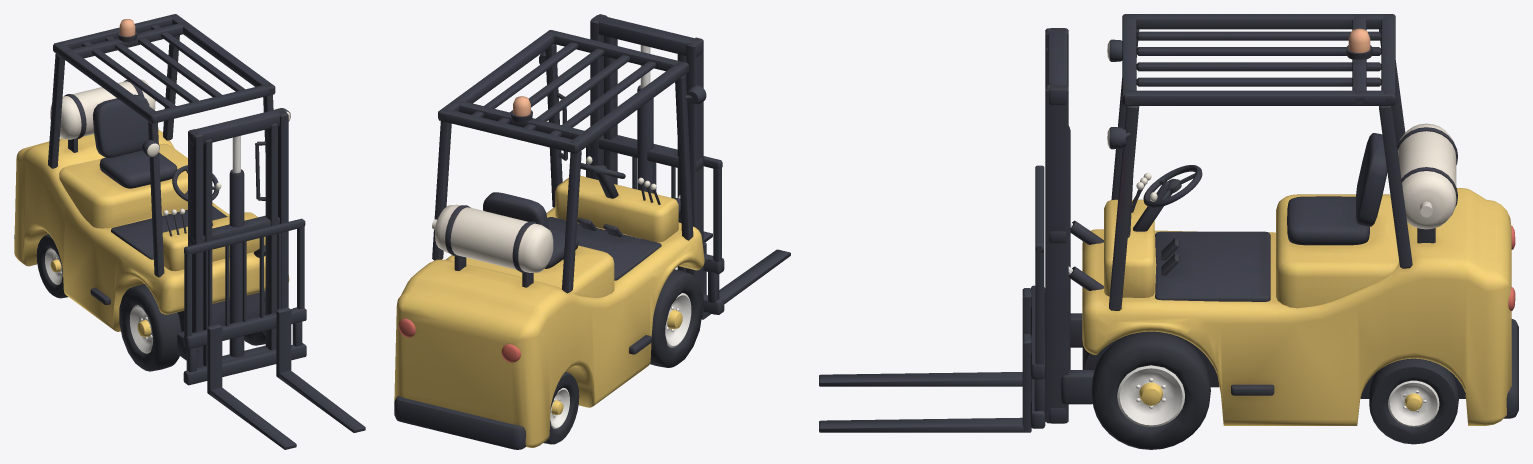
The model's file is veh_forklift.glb.
3 renders of one model, left to right at view 1: azimuth 30°, elevation 25°; view 2: azimuth 150°, elevation 25°; view 3: azimuth 270°, elevation 25°, orthographic. The views are drawn at different scales.
Visible parts, largest first — view 1: forklift_body, forklift_fork_carriage, forklift_wheel_fl; view 2: forklift_body, forklift_wheel_fl, forklift_fork_carriage; view 3: forklift_body, forklift_wheel_fl, forklift_fork_carriage.
Part boxes in pixels (x1,y1,x2,y2): forklift_body: (14,14,289,367); forklift_fork_carriage: (142,108,365,449); forklift_wheel_fl: (36,234,265,371); forklift_body: (394,14,704,449); forklift_wheel_fl: (544,269,703,444); forklift_fork_carriage: (539,51,790,319); forklift_body: (1045,14,1518,425); forklift_wheel_fl: (1091,331,1458,449); forklift_fork_carriage: (819,39,1131,432).
Size of the model in its own units: 1.26 by 2.32 by 3.86.
Materials: 6 (1 with a texture image).
